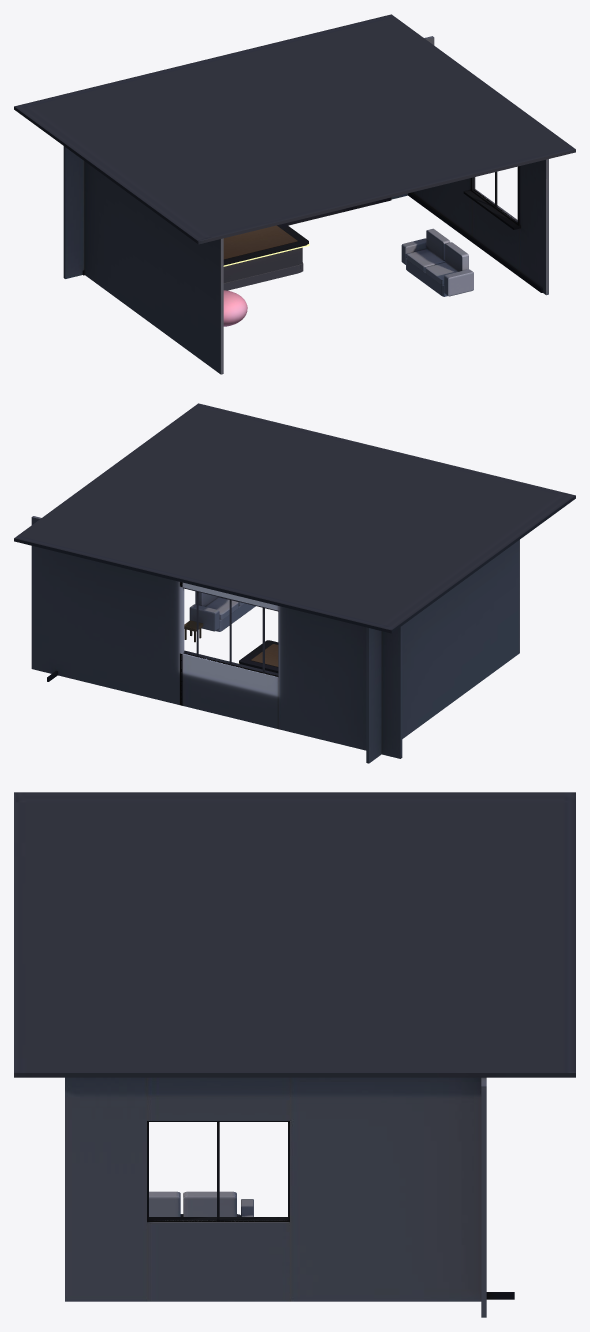
File: room-baked.glb
The picture shows the model from 3 angles, top to bottom: view 1: azimuth 30°, elevation 25°; view 2: azimuth 150°, elevation 25°; view 3: azimuth 270°, elevation 25°; orthographic projection. The views are drawn at different scales.
Parts seen in each view (by area): view 1: ceiling, wall_left, wall_right_front, wall_back_l, wall_right_low, wall_right_back, desk_mat, desk_base, skirt_right, desk_top, desk_base2, beanbag (+6 smaller); view 2: ceiling, wall_back_r, wall_left, wall_back_l, wall_back_low, sofa_arm1, wall_back_top, desk_top; view 3: ceiling, wall_right_back, wall_right_front, wall_right_low, wall_right_top, wall_back_r, sofa_back1, sofa_back2.
Boxes of the visible parts, bbox=[...] form: ceiling: bbox=[14, 14, 575, 244]; wall_left: bbox=[84, 161, 223, 374]; wall_right_front: bbox=[519, 159, 548, 295]; wall_back_l: bbox=[63, 146, 84, 278]; wall_right_low: bbox=[472, 189, 519, 270]; wall_right_back: bbox=[412, 177, 475, 236]; desk_mat: bbox=[223, 225, 297, 259]; desk_base: bbox=[223, 247, 302, 282]; skirt_right: bbox=[408, 192, 542, 292]; desk_top: bbox=[223, 223, 308, 265]; desk_base2: bbox=[223, 262, 303, 290]; beanbag: bbox=[223, 290, 247, 326]; ceiling: bbox=[14, 403, 575, 633]; wall_back_r: bbox=[31, 516, 184, 705]; wall_left: bbox=[366, 540, 519, 763]; wall_back_l: bbox=[278, 606, 402, 758]; wall_back_low: bbox=[180, 653, 278, 729]; sofa_arm1: bbox=[189, 604, 219, 631]; wall_back_top: bbox=[180, 582, 278, 610]; desk_top: bbox=[239, 640, 278, 673]; ceiling: bbox=[14, 792, 575, 1077]; wall_right_back: bbox=[290, 1077, 481, 1301]; wall_right_front: bbox=[65, 1077, 146, 1301]; wall_right_low: bbox=[147, 1220, 289, 1301]; wall_right_top: bbox=[147, 1077, 289, 1120]; wall_back_r: bbox=[481, 1077, 486, 1317]; sofa_back1: bbox=[183, 1191, 236, 1216]; sofa_back2: bbox=[149, 1191, 180, 1216].
Size of the model in its own units: 13.4 by 5.16 by 11.
Materials: 87 (85 with a texture image).
